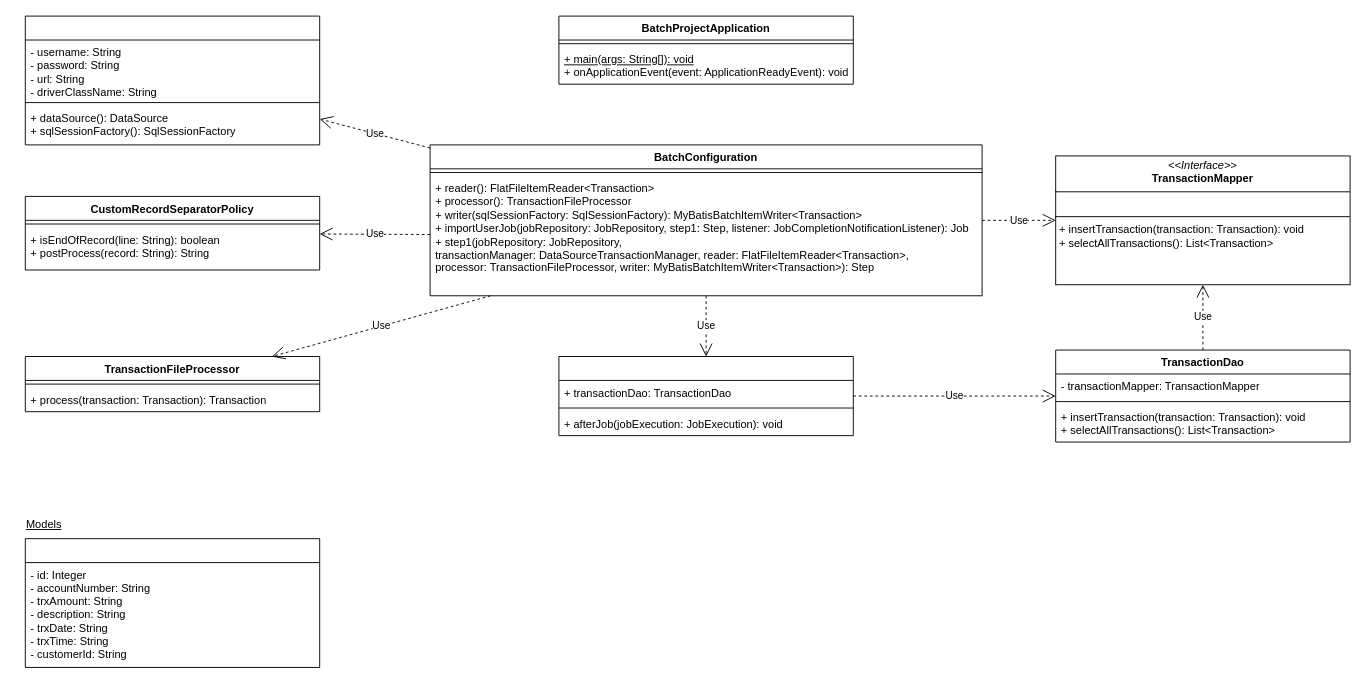
This 1366x686 diagram has some shape labels left out. The box of each missing label's shape, as (x1, y1, x2, y2) in pixels:
JobCompletionNotificationListener: (558, 356, 853, 436)
MyBatisConfig: (24, 15, 320, 145)
Transaction: (24, 538, 320, 667)
